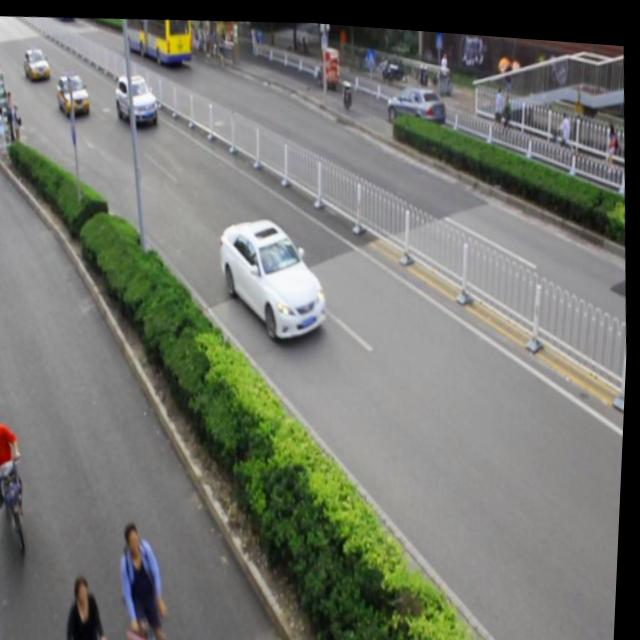car: (217, 209, 333, 343), (385, 76, 446, 131), (115, 70, 160, 128), (56, 72, 91, 116)
van: (121, 13, 194, 68)
